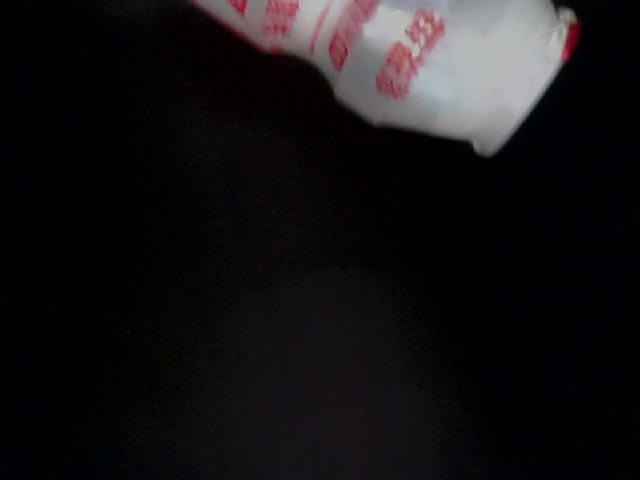CYLJ: (394, 325, 506, 432)
